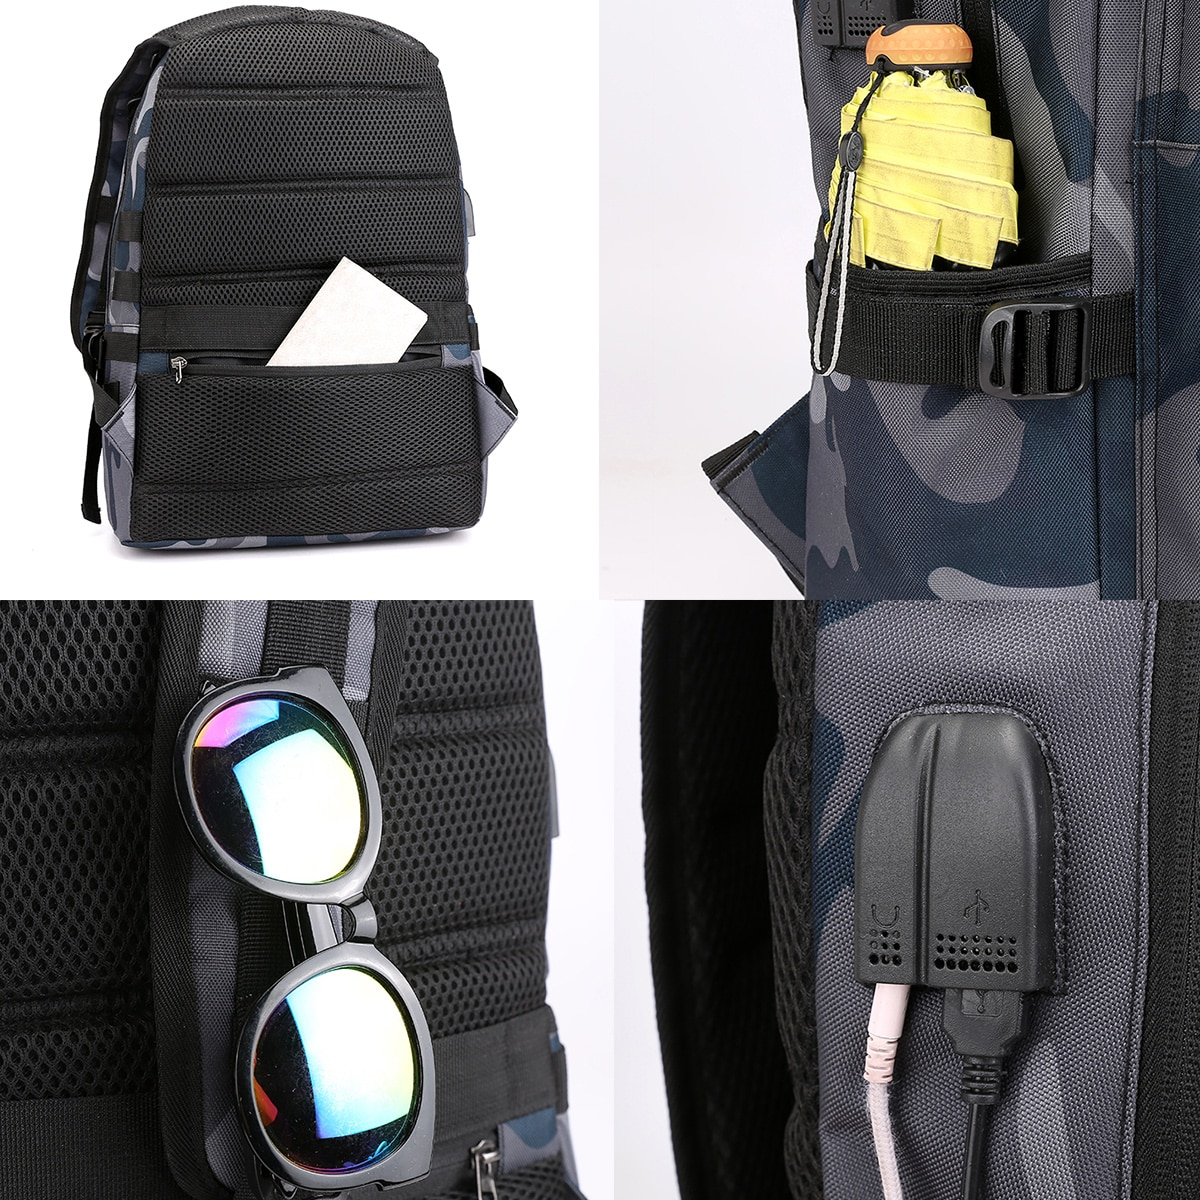Accessories|Sunglasses & Eyewears: (176, 668, 444, 1187)
Men's Backpacks: (64, 5, 513, 552)
